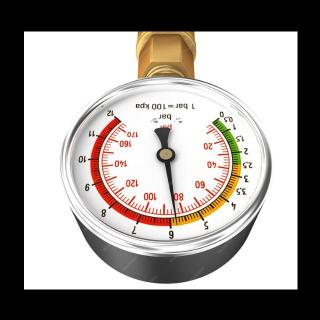gauge: (57, 74, 280, 258), (103, 105, 133, 135), (203, 108, 225, 132), (156, 146, 176, 162), (173, 216, 180, 226)
